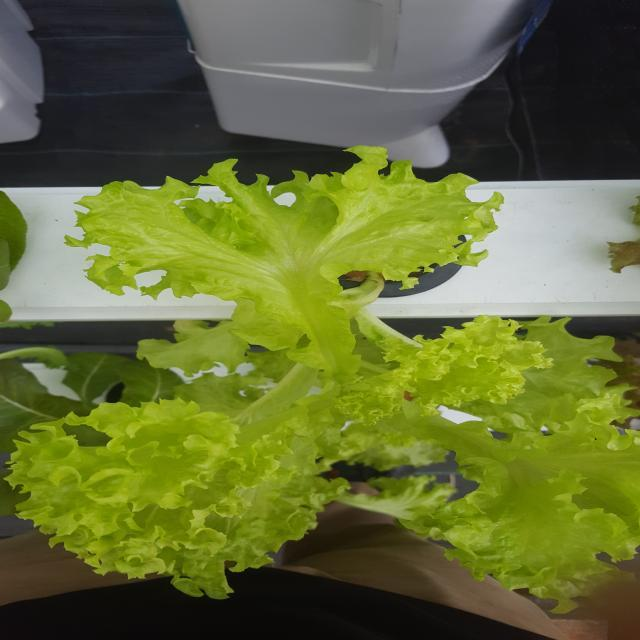Lettuce-Ready-to-Harvest: (10, 152, 640, 611)
